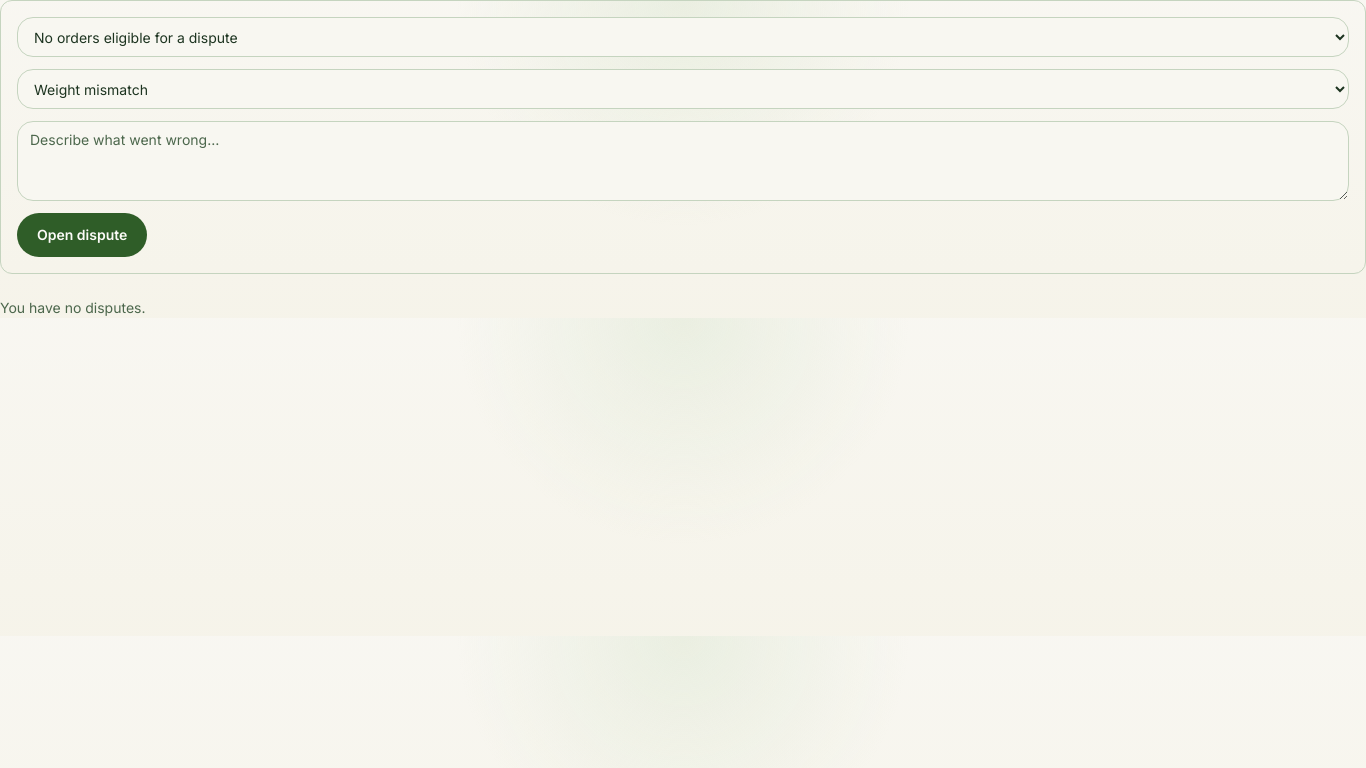
MyDisputesPanel › shows empty state and blocks invalid submit
Check: the text "You have no disputes." is shown, box [0,299,146,316]
Click the button "Open dispute": (82, 235) [17,213,147,257]
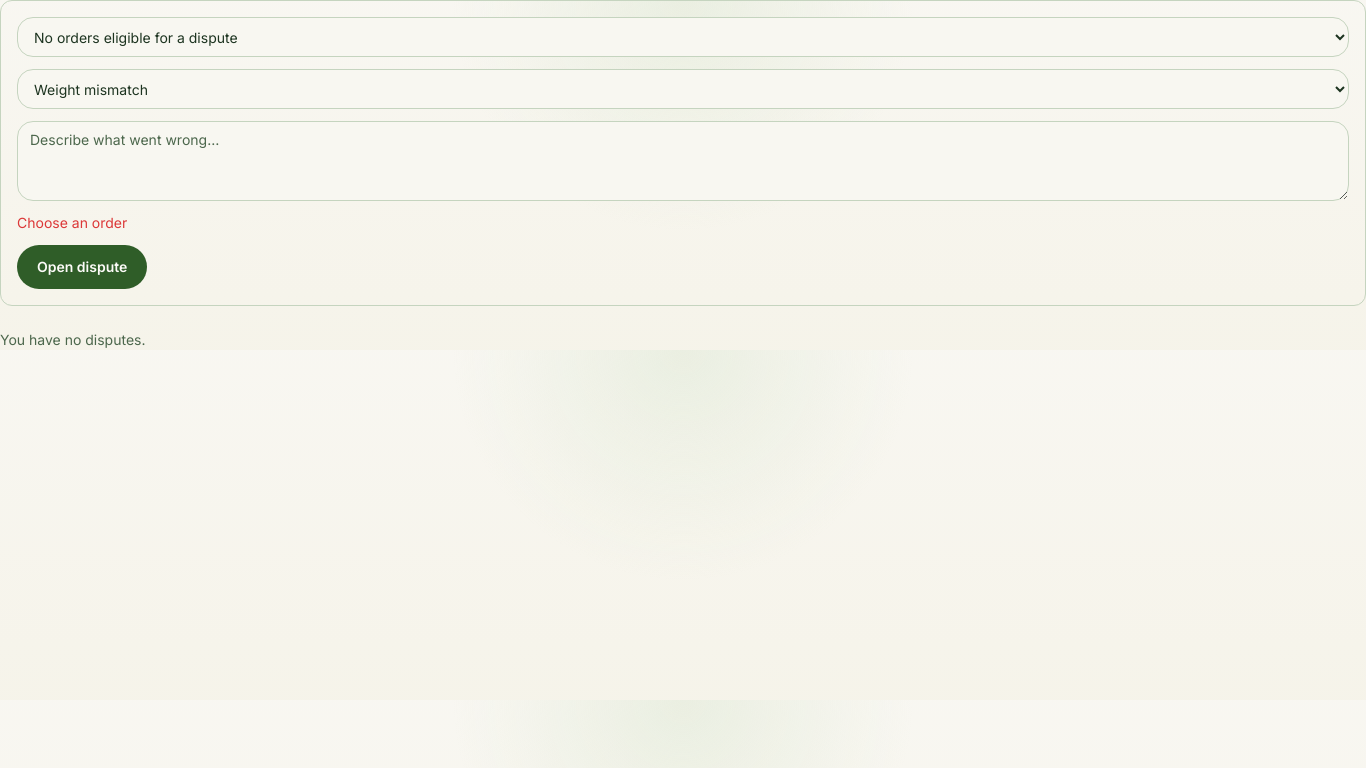
Check: the message reads "Choose an order", box [17,214,127,231]
